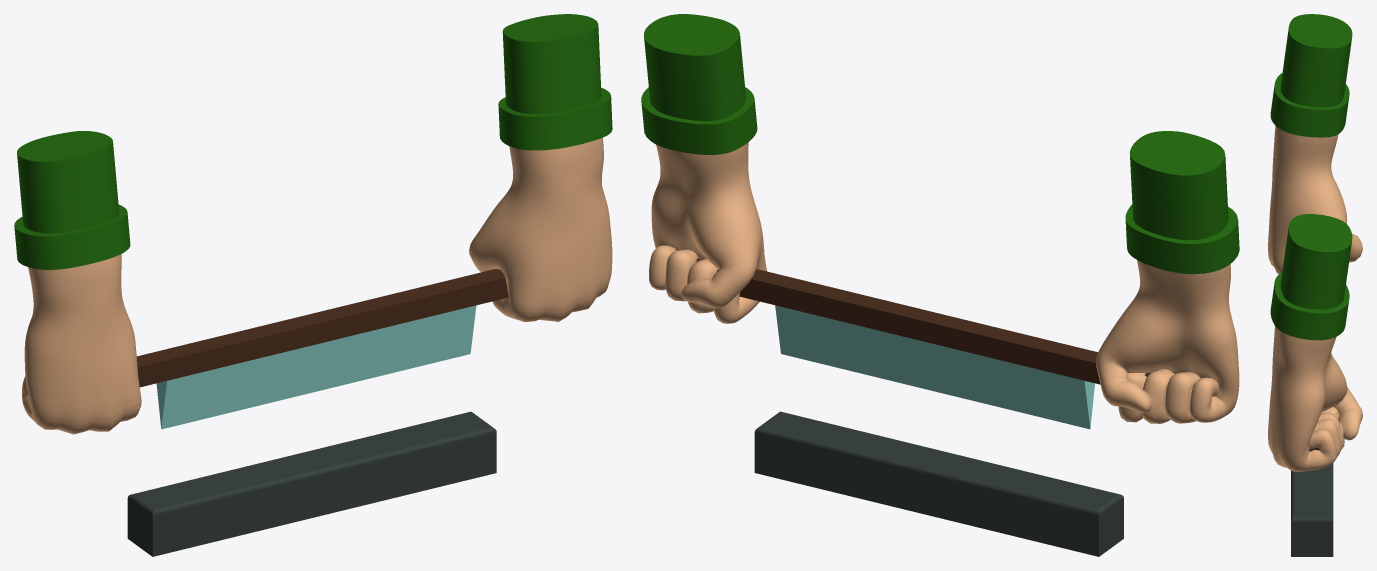
The model's file is finalMachine.fbx.
3 views of the same model, side by side, from view 1: azimuth 30°, elevation 25°; view 2: azimuth 150°, elevation 25°; view 3: azimuth 270°, elevation 25° (orthographic). The views are drawn at different scales.
Visible parts, largest first — view 1: Hand2, Hand1, Tool, Table; view 2: Hand1, Hand2, Tool, Table; view 3: Hand2, Hand1, Table.
Boxes of the visible parts, <box> form: Hand2: <box>469,14,612,321</box>; Hand1: <box>14,131,141,434</box>; Tool: <box>136,269,508,429</box>; Table: <box>127,411,496,556</box>; Hand1: <box>1096,131,1239,423</box>; Hand2: <box>641,14,767,323</box>; Tool: <box>696,258,1151,429</box>; Table: <box>754,411,1123,556</box>; Hand2: <box>1268,214,1362,471</box>; Hand1: <box>1268,14,1362,274</box>; Table: <box>1291,463,1333,556</box>.
Bounding box in the file's own units: 2719 × 1865 × 449.
